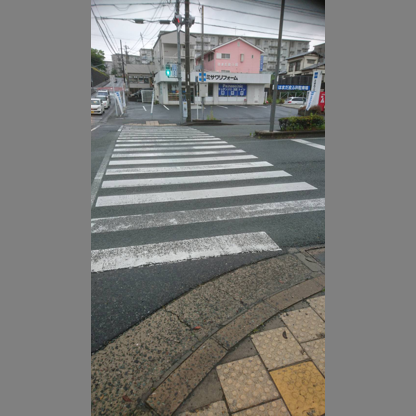brailleblock: (253, 333, 323, 416), (220, 366, 285, 416), (287, 310, 323, 337)
crosswalk: (90, 176, 282, 256), (119, 136, 233, 173)
signal: (164, 63, 171, 78)
